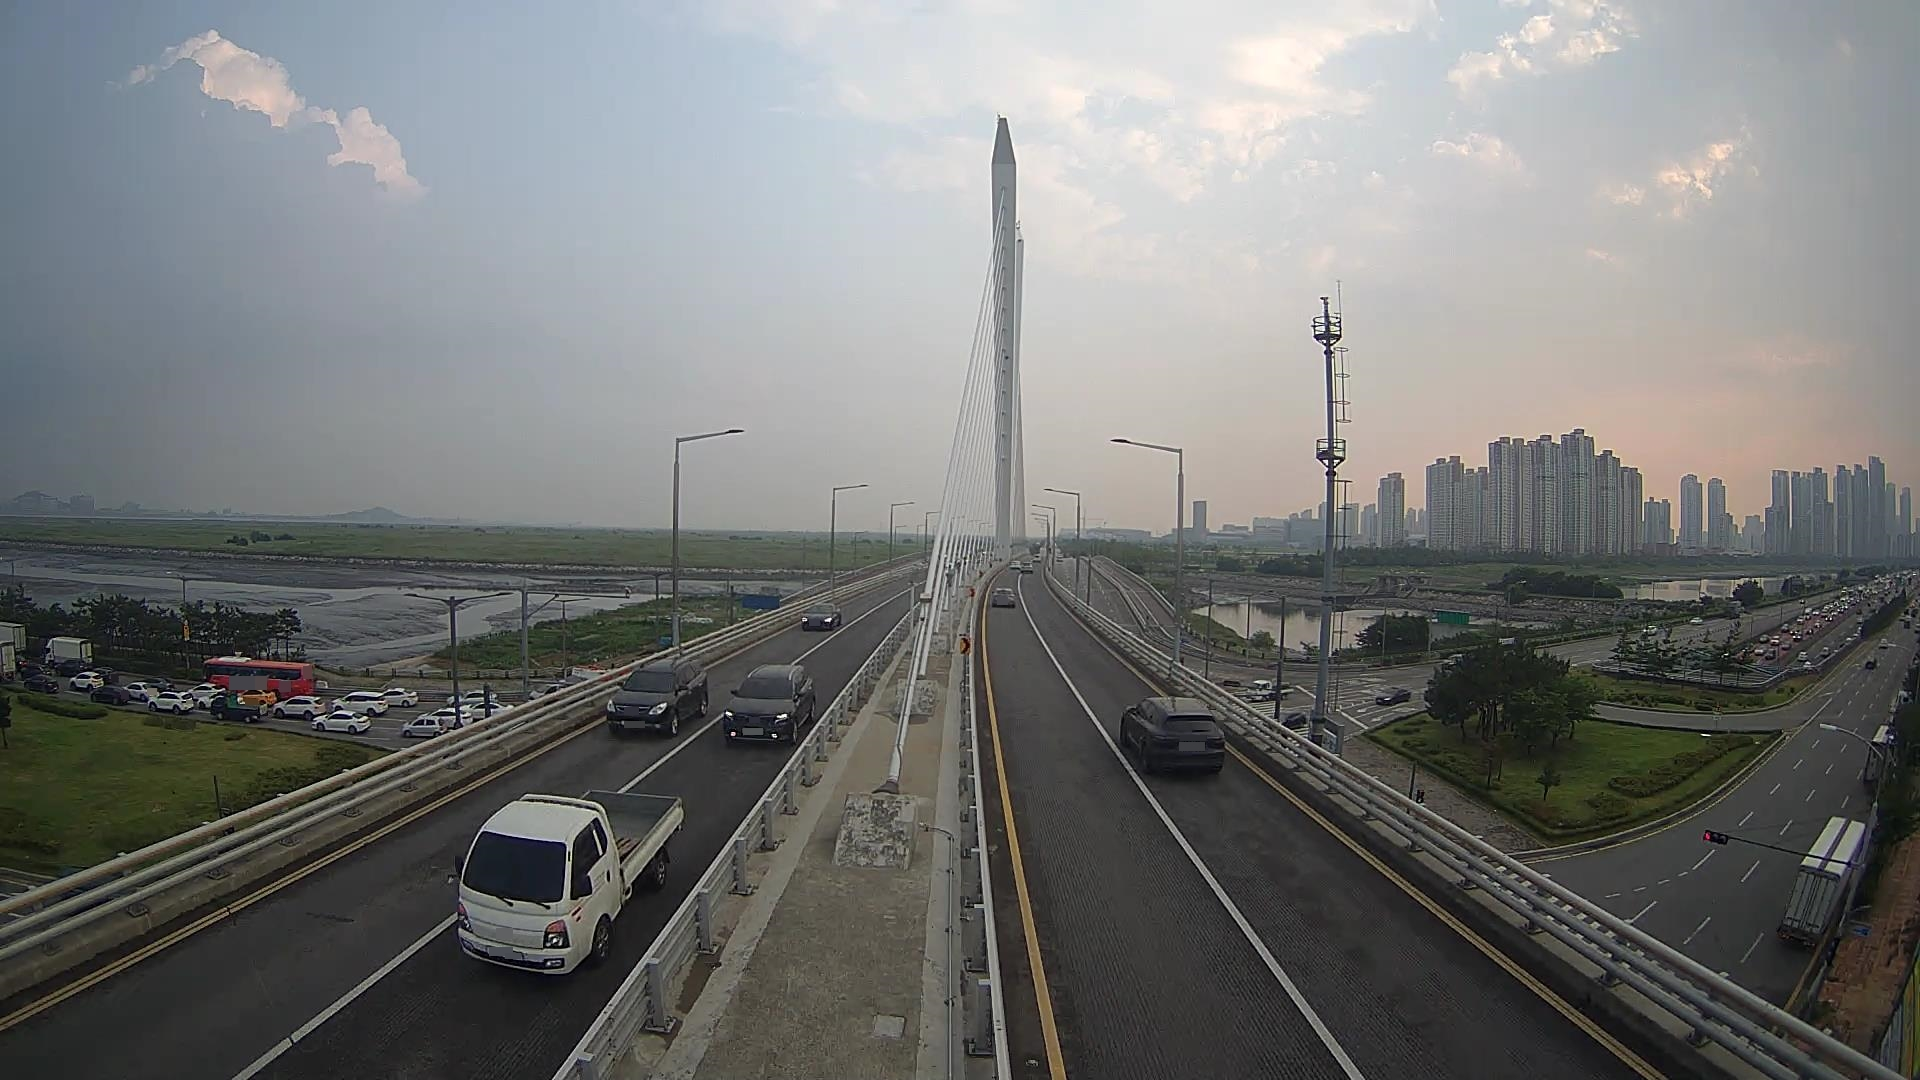정상차량: (448, 790, 684, 974)
